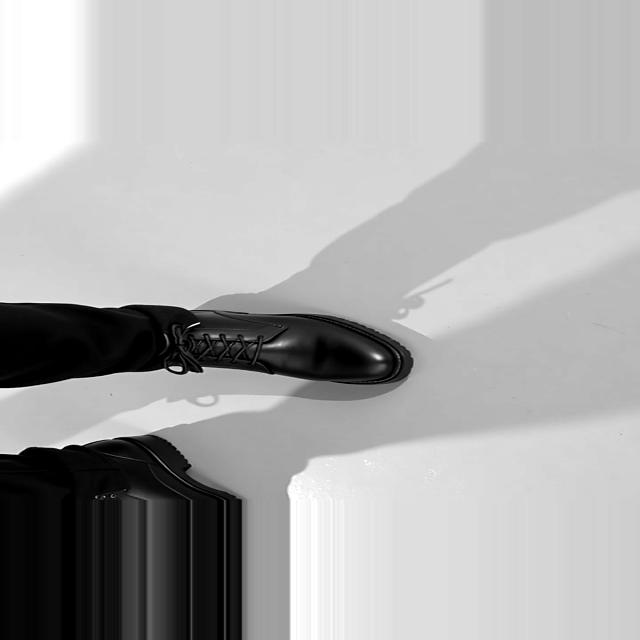Boots: (164, 303, 418, 393)
